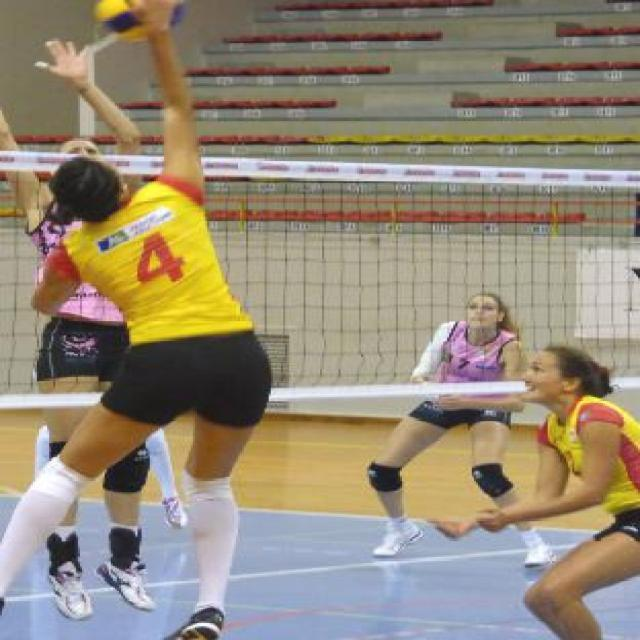volleyball: (92, 0, 150, 40)
